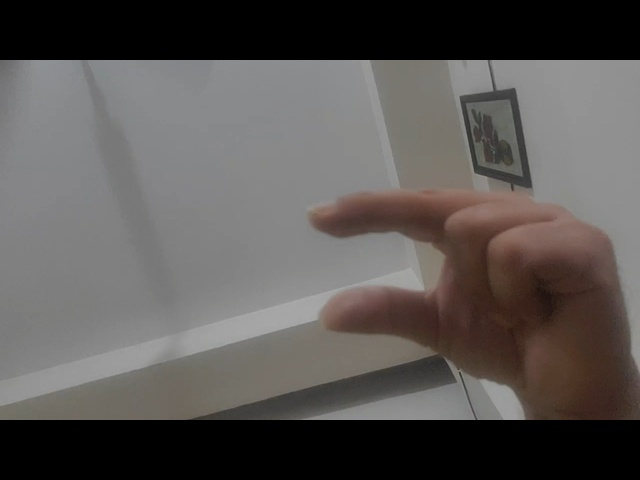No: (268, 168, 639, 418)
